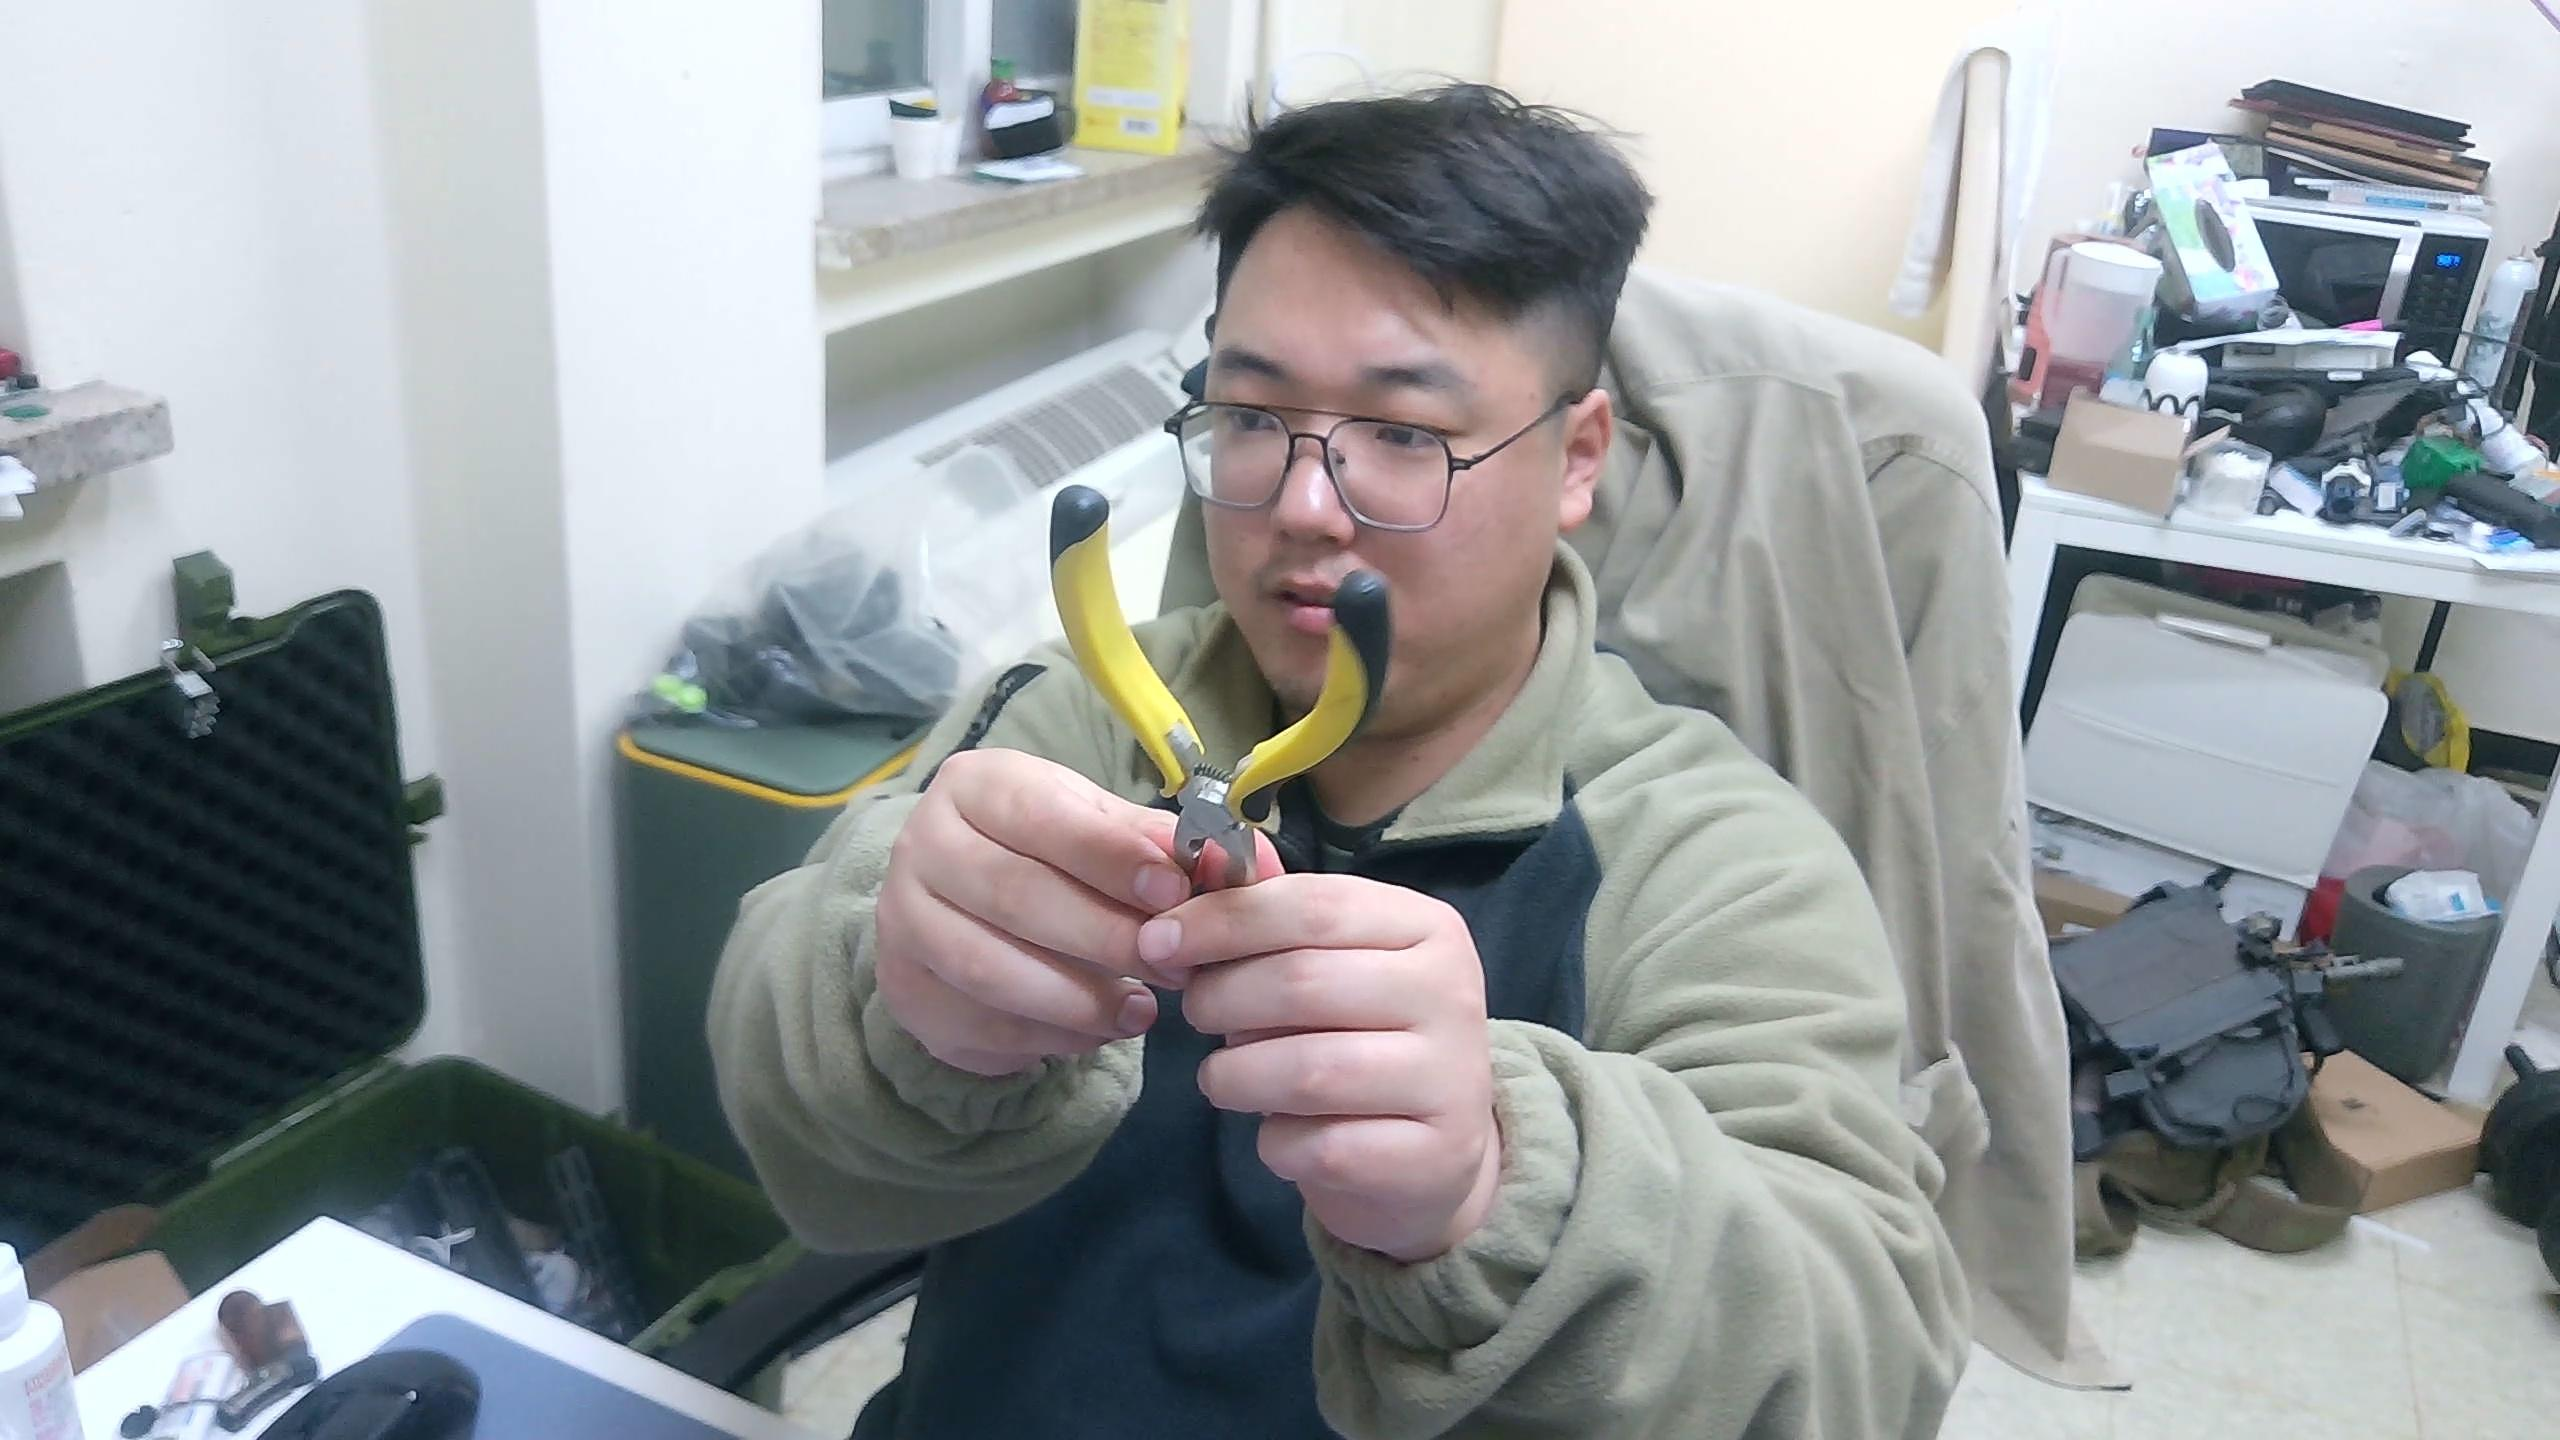earphone: (1046, 480, 1400, 897)
